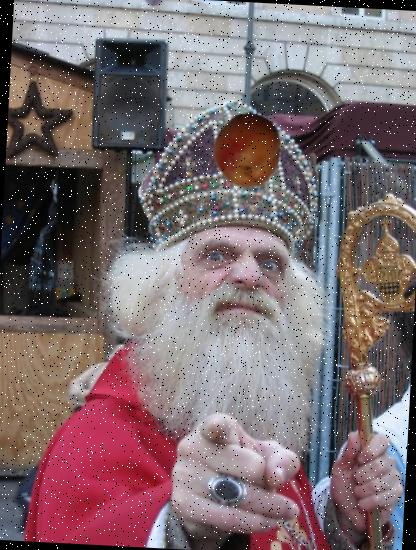Apricot: (209, 111, 288, 190)
